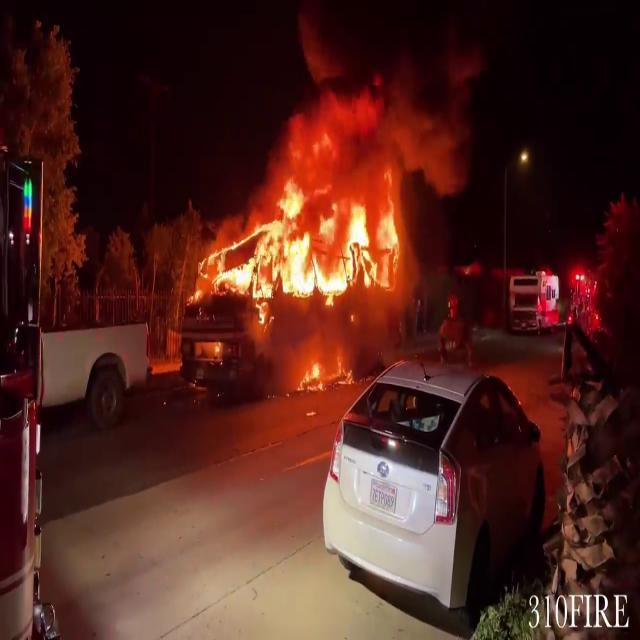Fire: (195, 161, 408, 327)
Smoke: (270, 0, 487, 194)
